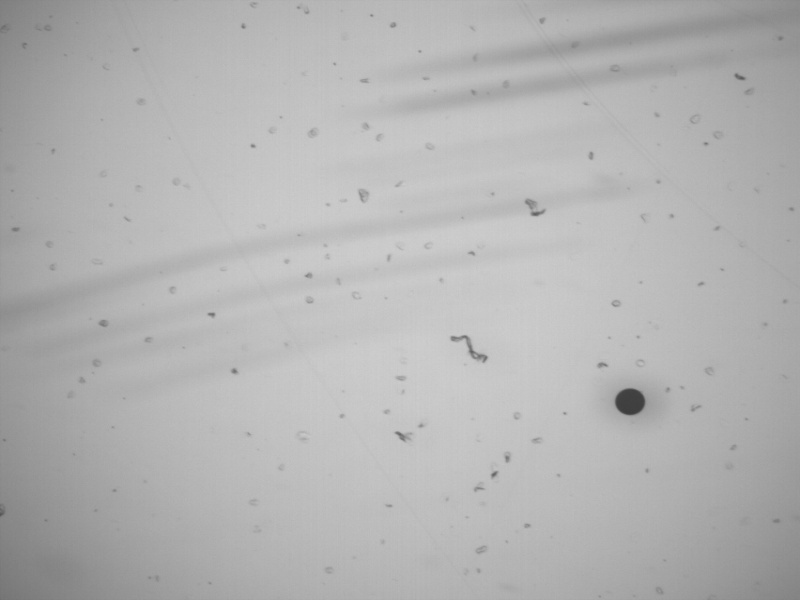bead: (613, 387, 648, 416)
fiber: (449, 330, 489, 362)
